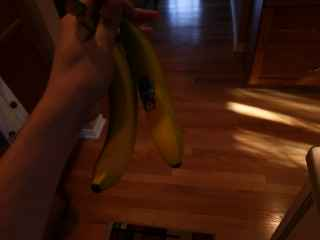banana: (101, 1, 190, 174), (89, 17, 139, 195)
